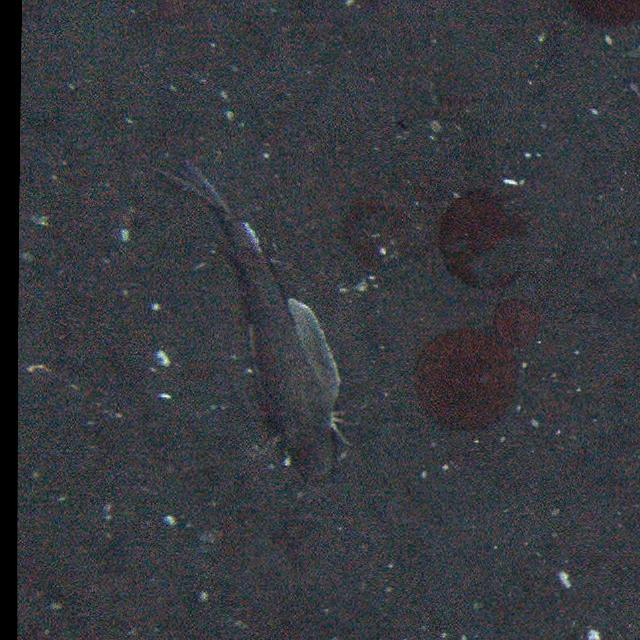roundfish: (174, 163, 352, 483)
